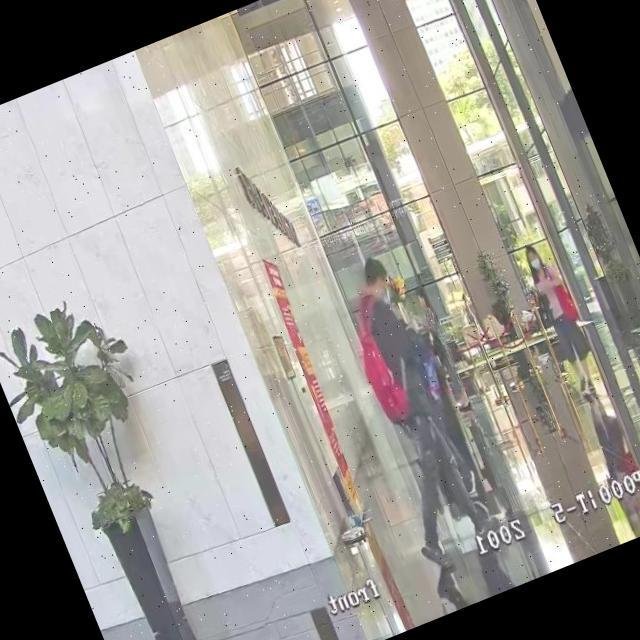person: (310, 243, 520, 578), (508, 237, 608, 403)
